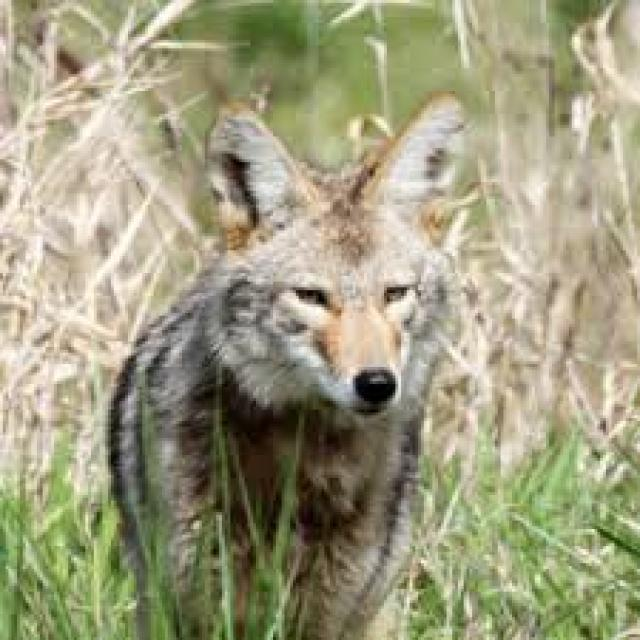Coyote: (112, 93, 478, 631)
